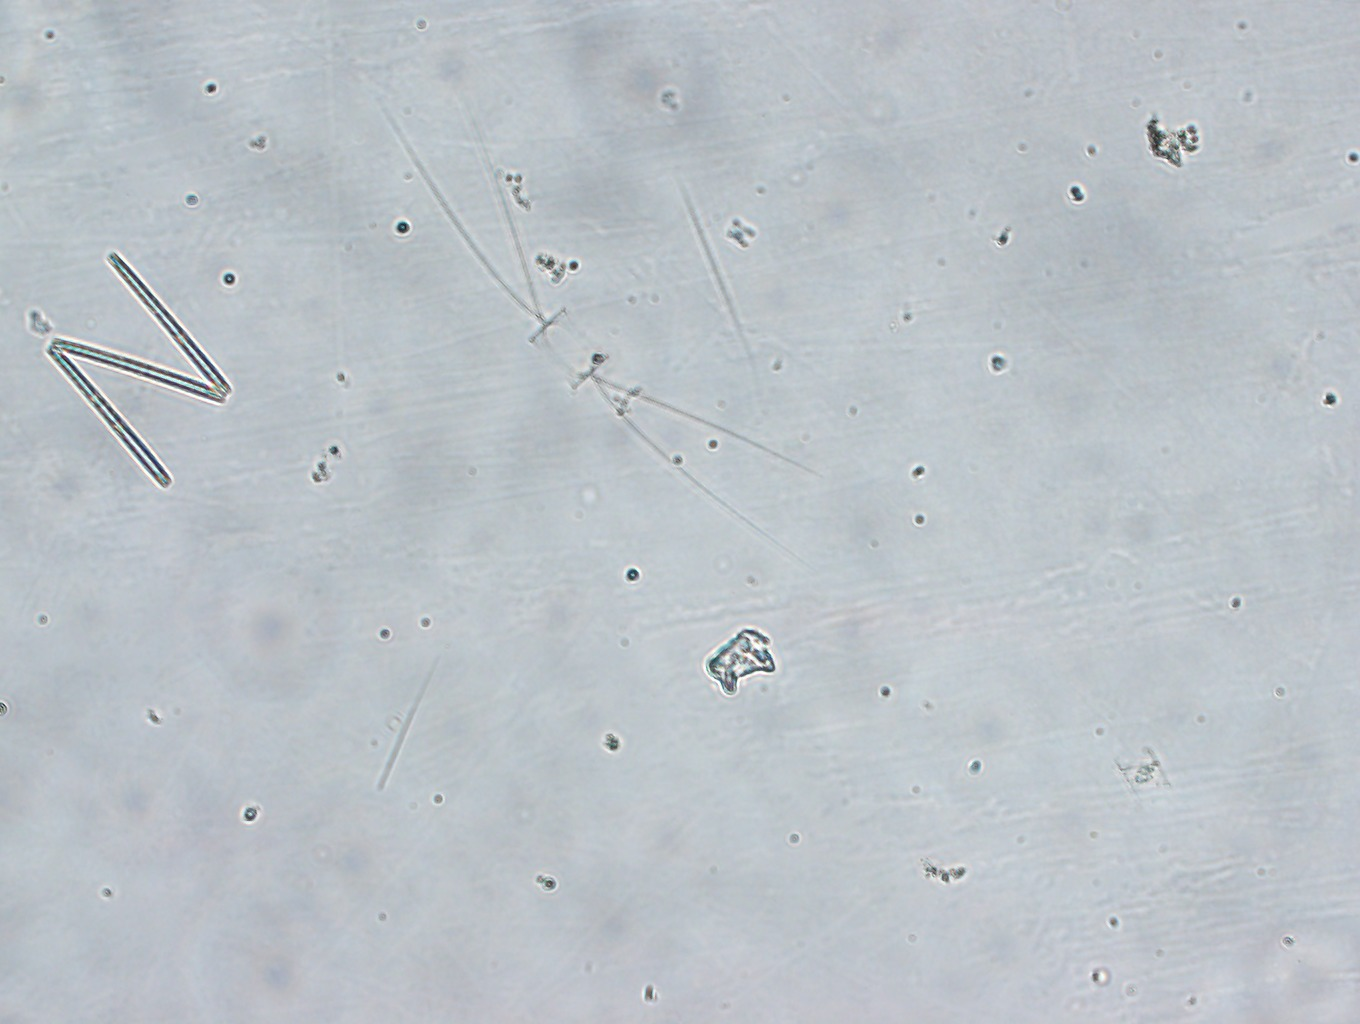chaetoceros: (373, 90, 831, 568)
thalassionema nitzschioides: (35, 234, 233, 496)
